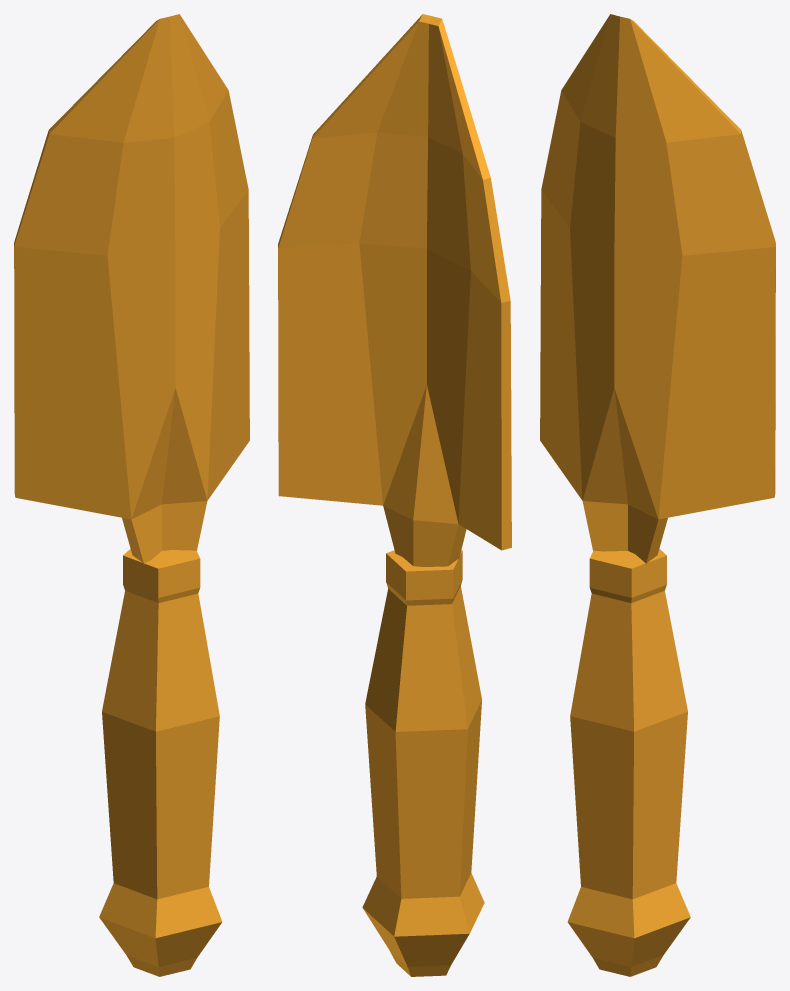
Rendered from SM_Shovel_Gardening_Round.fbx.
The picture shows the model from 3 angles, left to right: view 1: azimuth 30°, elevation 25°; view 2: azimuth 150°, elevation 25°; view 3: azimuth 330°, elevation 25°; orthographic projection.
Visible parts, largest first — view 1: shovel-gardening-round; view 2: shovel-gardening-round; view 3: shovel-gardening-round.
Boxes of the visible parts, box(x1,y1,x2,y2) form: shovel-gardening-round: box(14, 14, 249, 976); shovel-gardening-round: box(278, 14, 511, 976); shovel-gardening-round: box(540, 14, 775, 976).
Size of the model in its own units: 0.0936 by 0.3634 by 0.0431.
